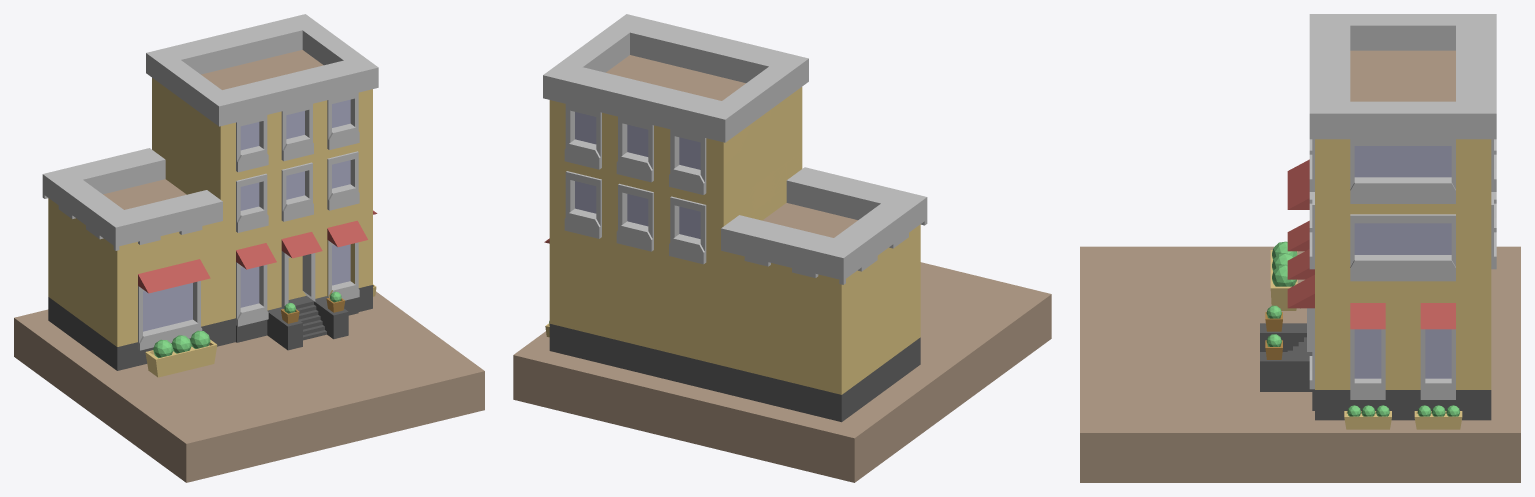
Rendered from building_apartment_yellow.fbx.
3 views of the same model, side by side, from view 1: azimuth 30°, elevation 25°; view 2: azimuth 150°, elevation 25°; view 3: azimuth 270°, elevation 25° (orthographic). The views are drawn at different scales.
Visible parts, largest first — view 1: Cube.000; view 2: Cube.000; view 3: Cube.000.
Boxes of the visible parts, <box> form: Cube.000: <box>14,14,484,482</box>; Cube.000: <box>513,14,1051,482</box>; Cube.000: <box>1080,14,1520,482</box>.
Size of the model in its own units: 1600 by 1439 by 1600.
